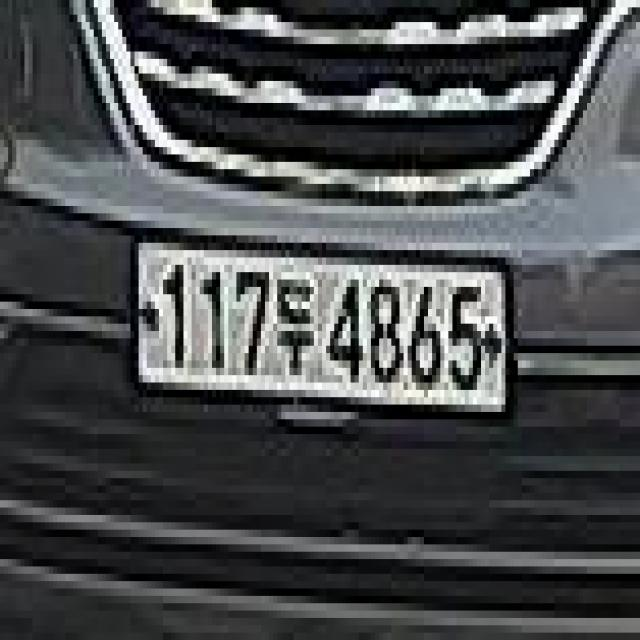illegal_plate: (130, 225, 514, 444)
